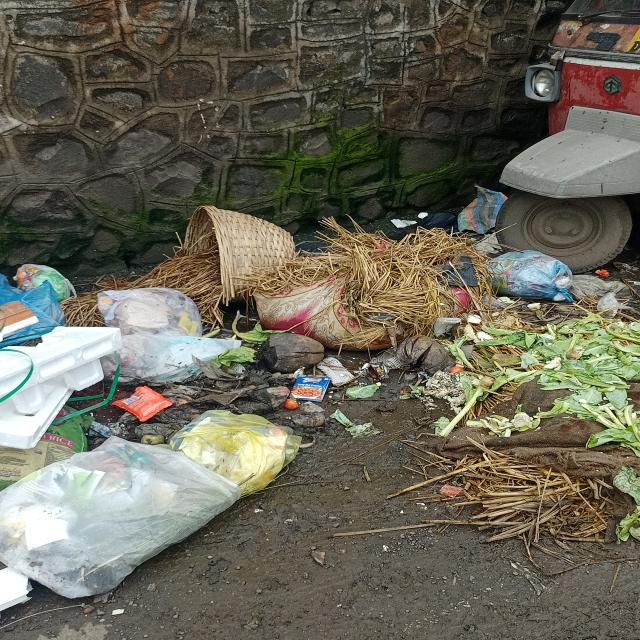garbage: (4, 210, 640, 582)
